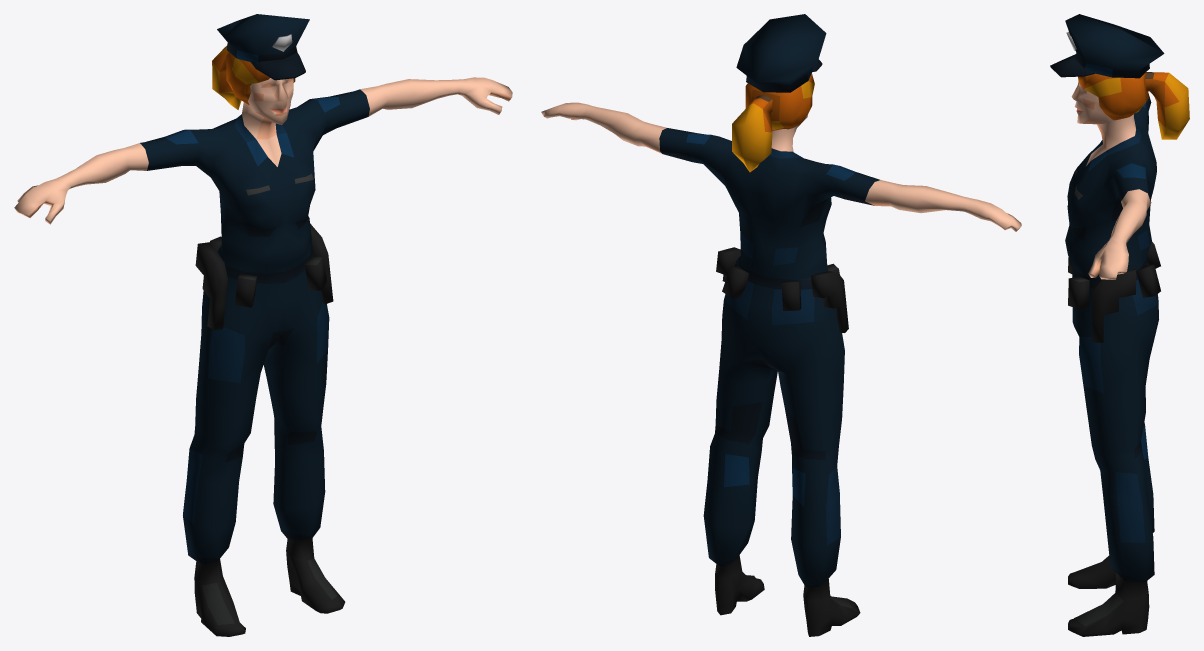
The model's file is police_Female_A-model.obj.
3 renders of one model, left to right at view 1: azimuth 30°, elevation 25°; view 2: azimuth 150°, elevation 25°; view 3: azimuth 270°, elevation 25°, orthographic. The views are drawn at different scales.
Visible parts, largest first — view 1: police_Female_A; view 2: police_Female_A; view 3: police_Female_A.
Boxes of the visible parts, bbox=[...] form: police_Female_A: bbox=[14, 14, 512, 636]; police_Female_A: bbox=[541, 14, 1021, 636]; police_Female_A: bbox=[1050, 14, 1189, 636].
Bounding box in the file's own units: 154 × 180 × 38.77.
